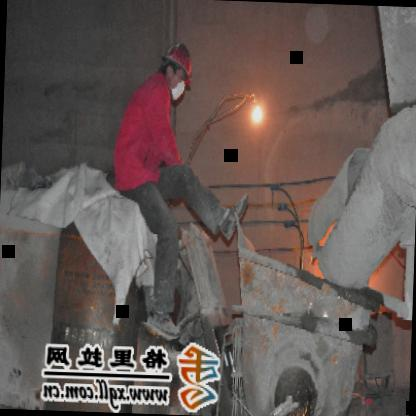helmet: (158, 38, 196, 106)
